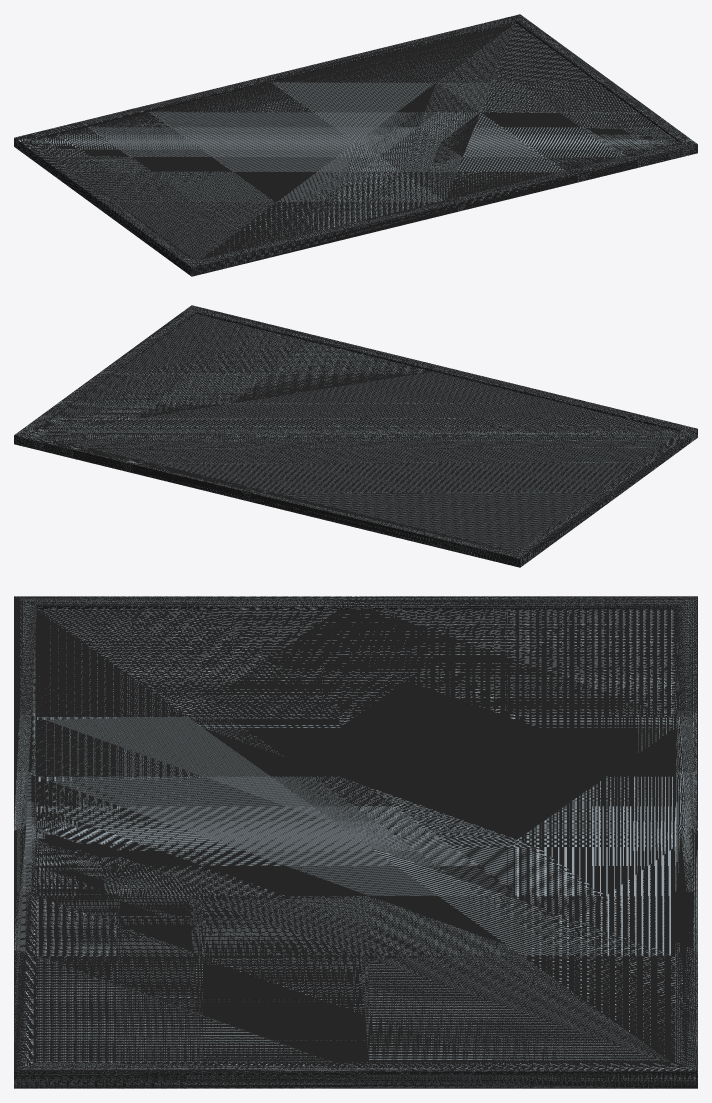
3 renders of one model, top to bottom at view 1: azimuth 30°, elevation 25°; view 2: azimuth 150°, elevation 25°; view 3: azimuth 270°, elevation 25°, orthographic. The views are drawn at different scales.
Visible parts, largest first — view 1: SketchUp (×2); view 2: SketchUp (×2); view 3: SketchUp (×2).
Part boxes in pixels (x1=…): SketchUp (×2): x1=14, y1=14, x2=697, y2=276; SketchUp (×2): x1=14, y1=305, x2=697, y2=567; SketchUp (×2): x1=14, y1=596, x2=697, y2=1088.
Size of the model in its own units: 74 by 45 by 1.25.
